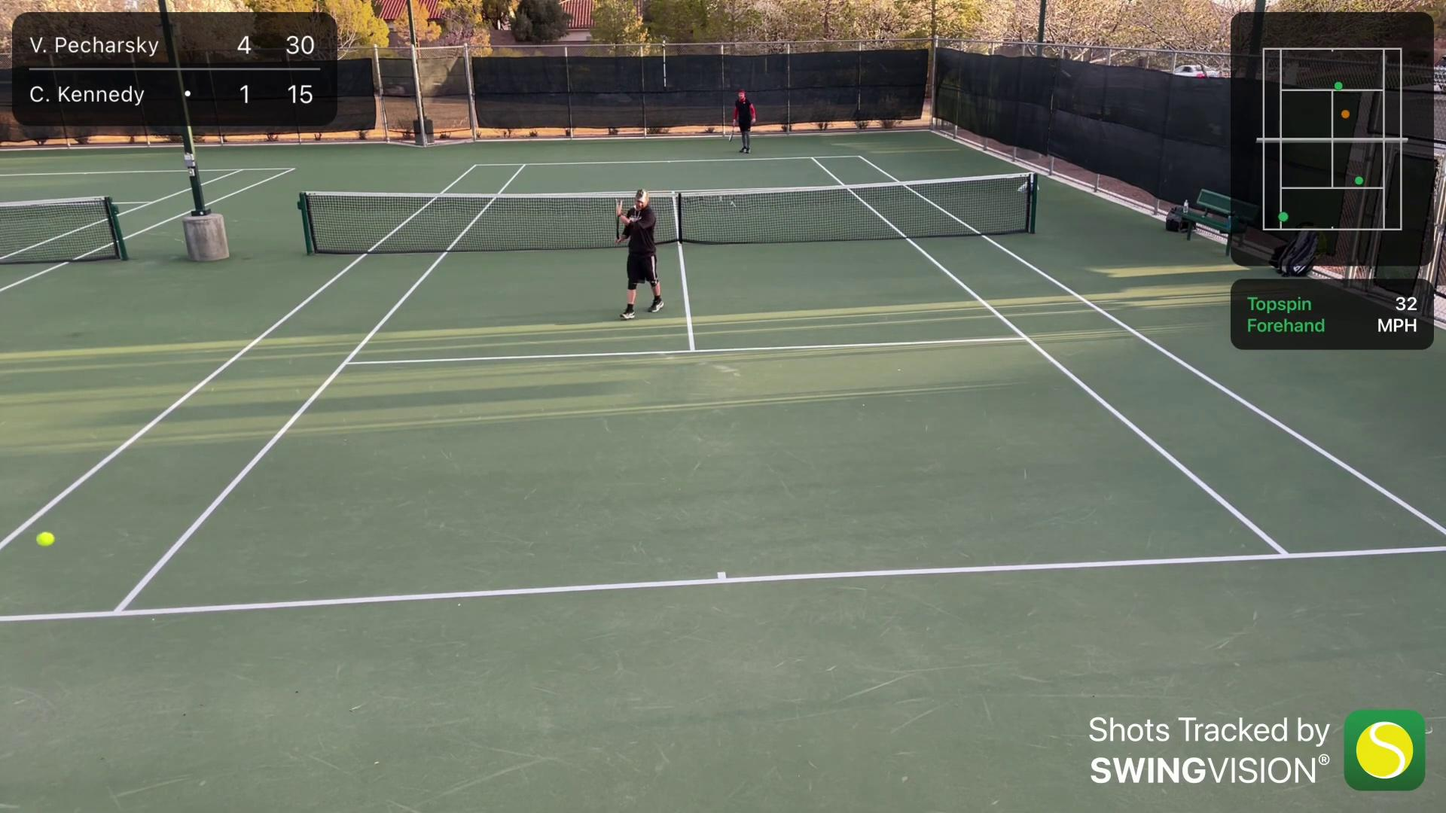ball: (31, 532, 61, 546)
